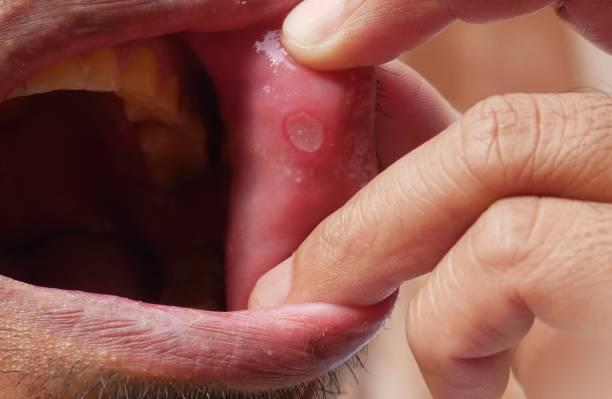Ulcer: (264, 99, 335, 164)
